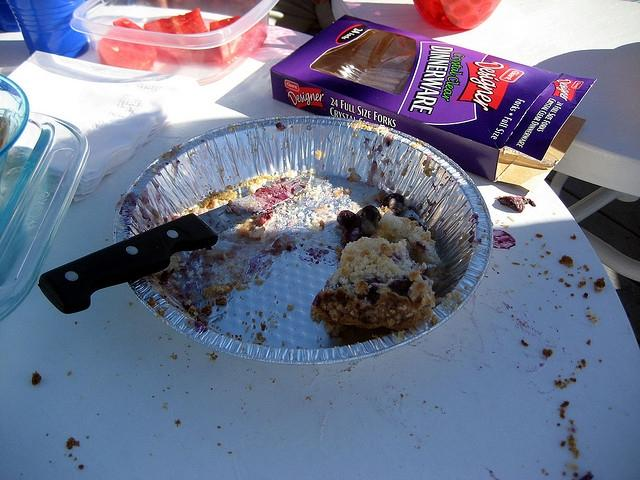blueberry: (498, 196, 536, 213), (388, 280, 414, 296), (336, 210, 356, 229), (360, 219, 379, 237), (360, 205, 380, 222), (381, 193, 404, 207), (348, 227, 364, 242)
watermelon: (98, 18, 158, 72), (204, 16, 268, 64), (144, 9, 208, 34)
